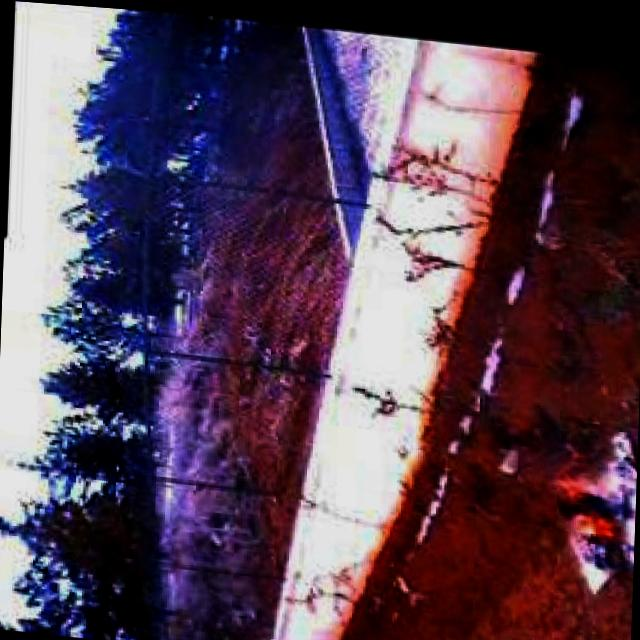helmet: (548, 433, 624, 572)
